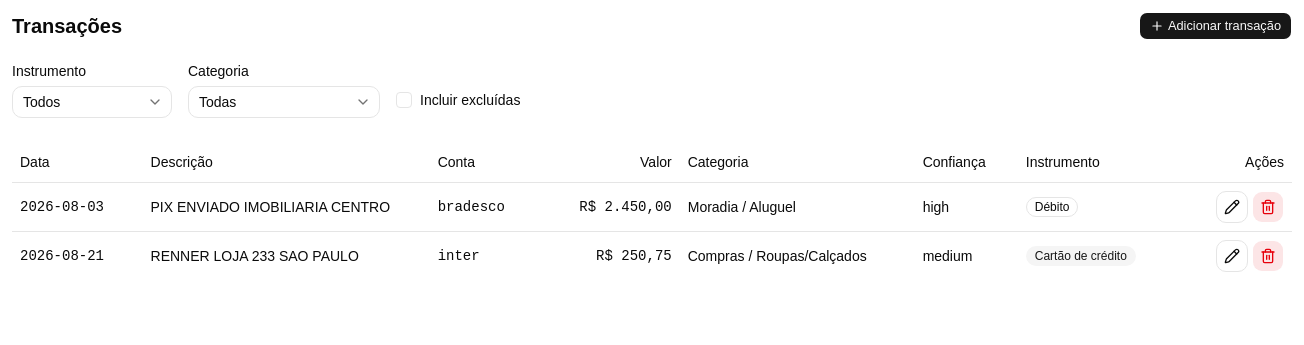
Test: TransactionsPage › hides soft-deleted rows by default and shows them, muted, once included
expect the text "PIX ENVIADO IMOBILIARIA CENTRO" is shown: met, box [142,182,430,231]
expect the text "ASSINATURA CANCELADA STREAMING" is not shown: met
Click the checkbox.
click(404, 100)  # box [396,92,412,108]
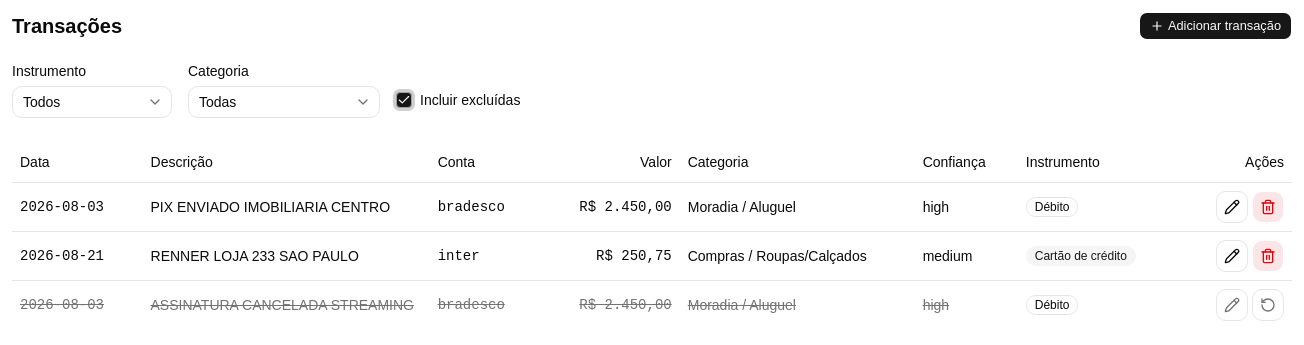
expect the text "ASSINATURA CANCELADA STREAMING" is shown: met, box [142,280,430,328]
